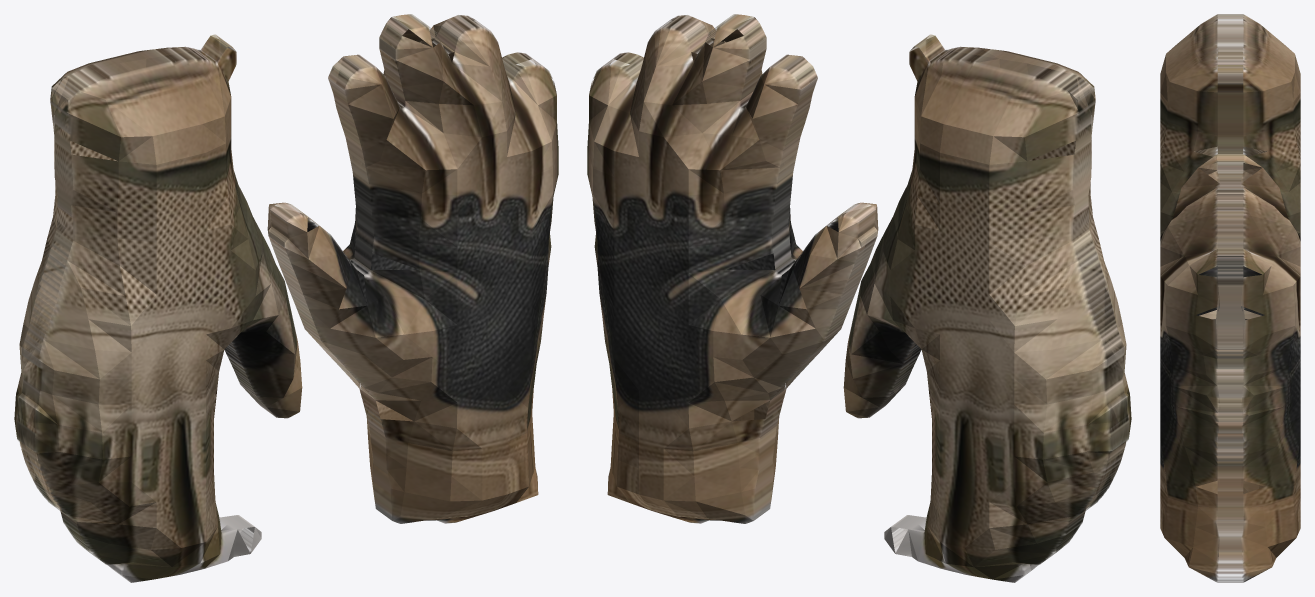
Rendered from dainese-apex-adventure-glove-103.glb.
The picture shows the model from 3 angles, left to right: view 1: azimuth 30°, elevation 25°; view 2: azimuth 150°, elevation 25°; view 3: azimuth 270°, elevation 25°; orthographic projection. The views are drawn at different scales.
Parts seen in each view (by area): view 1: world; view 2: world; view 3: world.
Boxes of the visible parts, x1,y1,x2,y2 form: world: (14, 14, 558, 582); world: (587, 14, 1131, 582); world: (1160, 14, 1300, 582).
Bounding box in the file's own units: 1 × 0.9715 × 0.3.
Materials: 1 (1 with a texture image).
